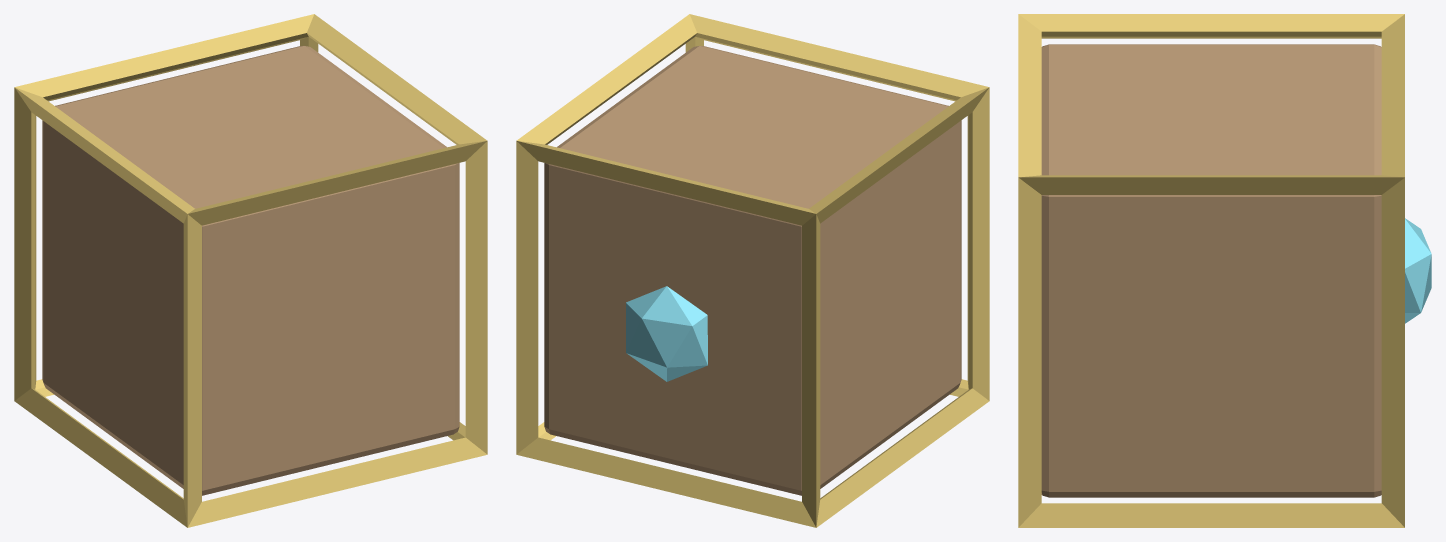
The model's file is Crate.fbx.
The picture shows the model from 3 angles, left to right: view 1: azimuth 30°, elevation 25°; view 2: azimuth 150°, elevation 25°; view 3: azimuth 270°, elevation 25°; orthographic projection. The views are drawn at different scales.
Parts seen in each view (by area): view 1: Crate_Body, Crate_Trim; view 2: Crate_Body, Crate_Trim, Crate_Gem; view 3: Crate_Body, Crate_Trim, Crate_Gem.
Part boxes in pixels (bbox=[...]): Crate_Body: bbox=[42, 46, 459, 495]; Crate_Trim: bbox=[14, 14, 487, 527]; Crate_Body: bbox=[544, 46, 961, 495]; Crate_Trim: bbox=[516, 14, 989, 527]; Crate_Gem: bbox=[626, 286, 707, 381]; Crate_Body: bbox=[1041, 44, 1381, 497]; Crate_Trim: bbox=[1018, 14, 1404, 527]; Crate_Gem: bbox=[1405, 218, 1431, 323].
Size of the model in its own units: 117 by 117 by 125.
